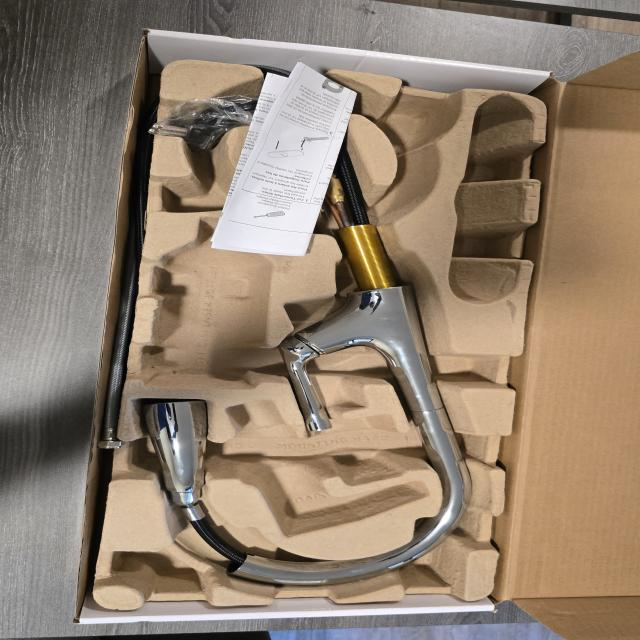1o: (144, 66, 476, 587)
2m: (226, 399, 430, 536)
3m: (144, 218, 275, 388)
4m: (448, 95, 533, 303)
5m: (382, 103, 446, 147)
6m: (160, 157, 275, 217)
7: (141, 95, 252, 151)
8: (207, 61, 359, 255)
